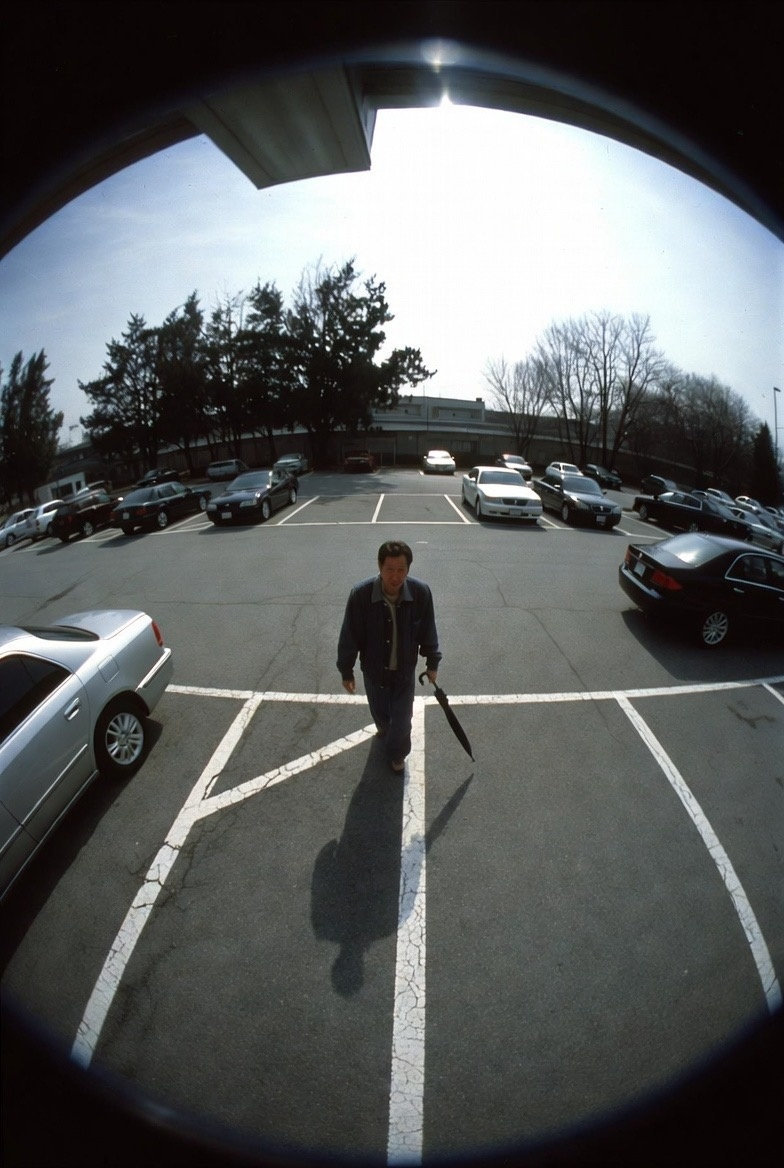person: (352, 529, 436, 781)
umbrella: (423, 665, 501, 772)
